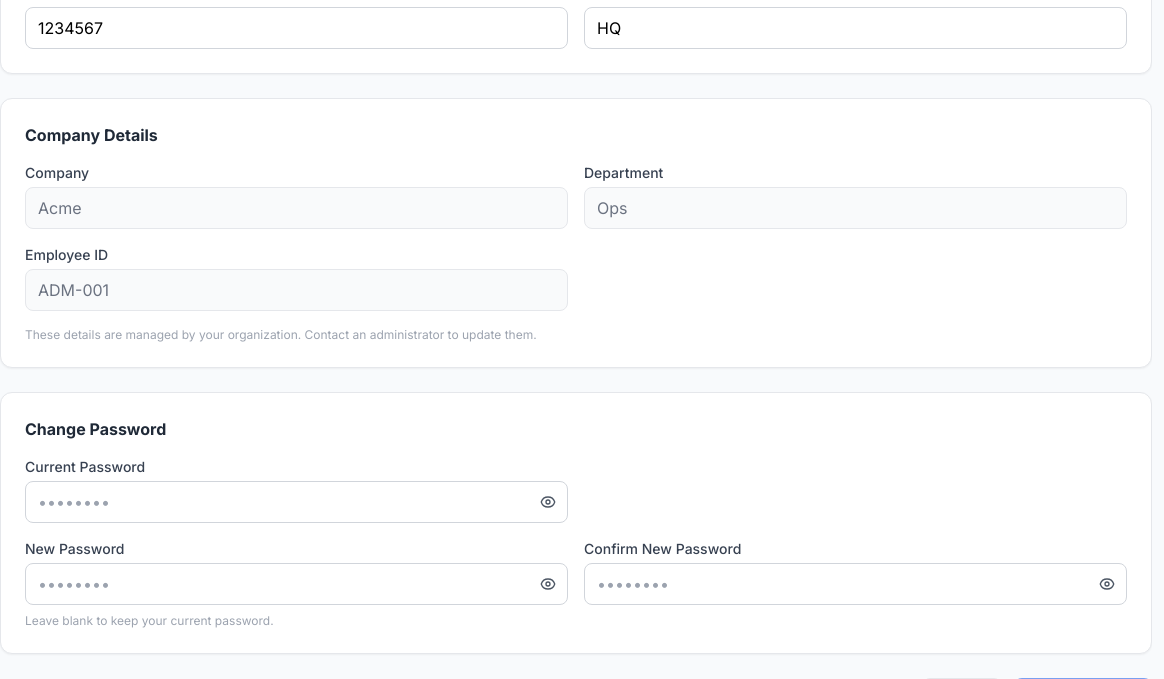
Test: AccountSettingsForm › shows a live mismatch indicator that clears once the passwords match
(page scrolled)
Type "newpassword123" into the password field labelled "New Password".
click(296, 584); type("newpassword123")  # box 25,563 -> 568,605
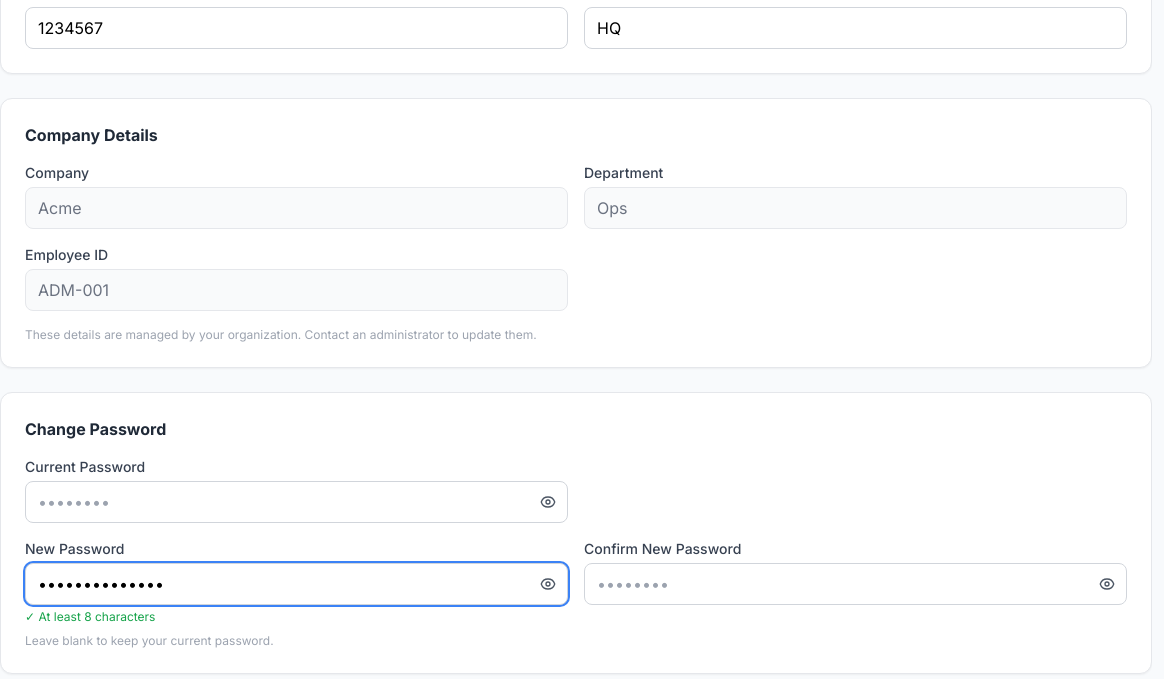
Type "different" into the password field labelled "Confirm New Password".
click(856, 584); type("different")  # box 584,563 -> 1127,605
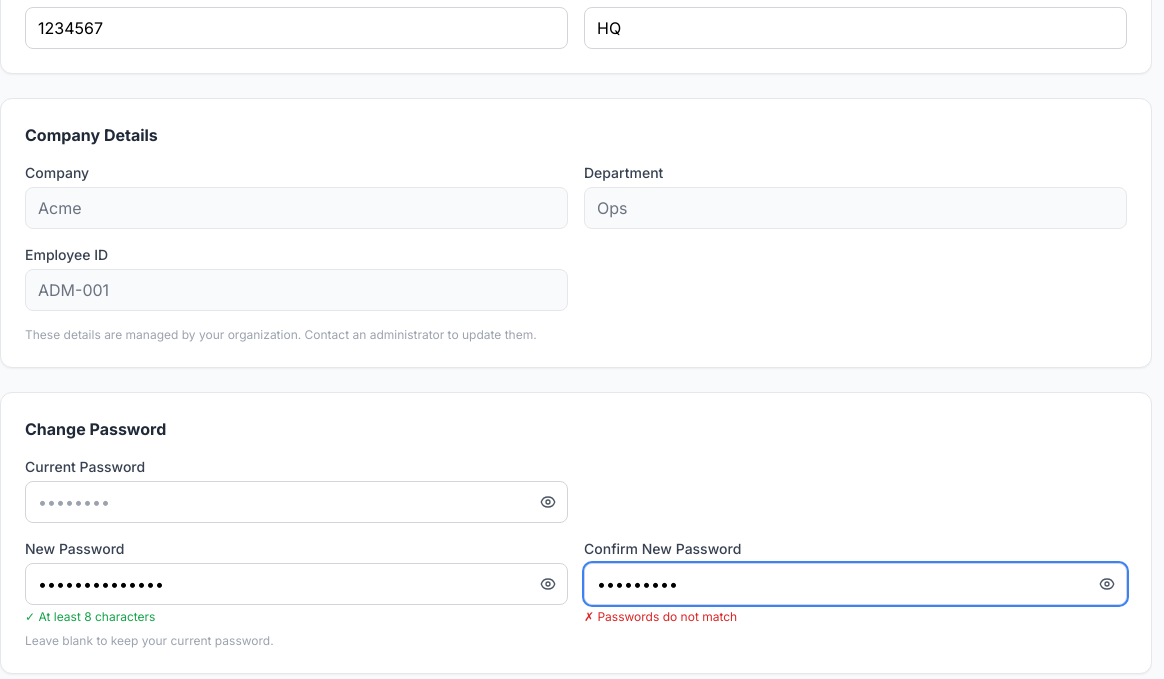
Expected: the text "✗ Passwords do not match" is shown, 584,609 -> 737,624
Type "newpassword123" into the password field labelled "Confirm New Password".
click(856, 584); type("newpassword123")  # box 584,563 -> 1127,605
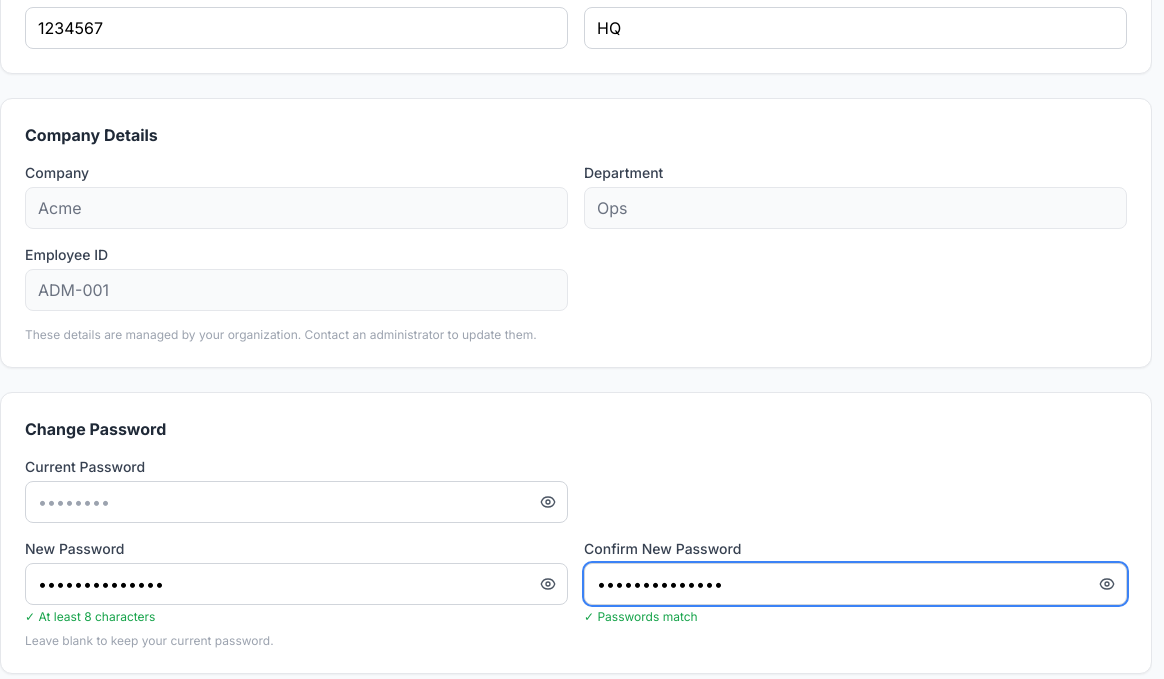
Expected: the text "✓ Passwords match" is shown, 584,609 -> 698,624
